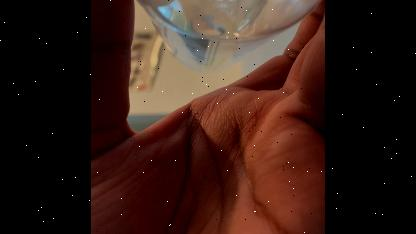Plastic Bottle: (98, 0, 322, 77)
